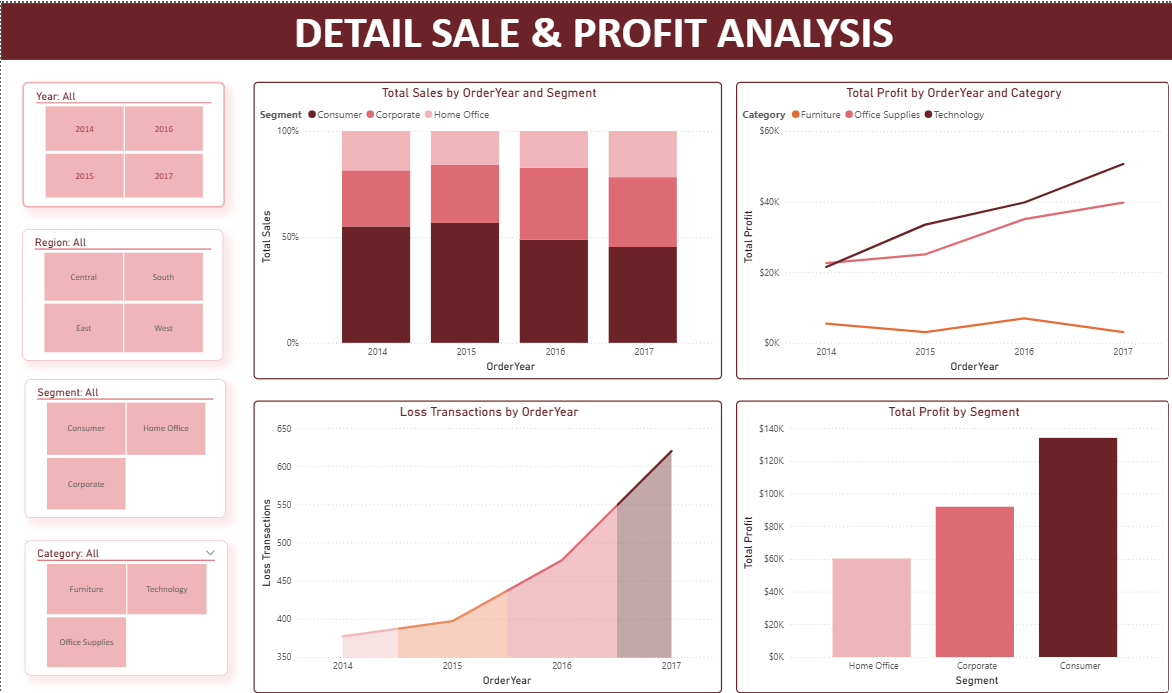

Layout of this report page (visuals, bound fields, positions):
{"tool":"powerbi","page":{"name":"Detailed Sales & Profit Analysis","canvas":[1580,920],"ordinal":1},"visuals":[{"type":"hundredPercentStackedColumnChart","fields":{"Category":["Dim_Date.OrderYear"],"Y":["Fact_Sales.Total Sales"],"Series":["Dim_Customer.Segment"]},"box":[336.7,105,625,396.7],"z":0},{"type":"lineChart","fields":{"Category":["Dim_Date.OrderYear"],"Y":["Fact_Sales.Total Profit"],"Series":["Dim_Product.Category"]},"box":[980,105,578.3,396.7],"z":1000},{"type":"actionButton","box":[0,0,100,40],"z":2000},{"type":"clusteredColumnChart","fields":{"Category":["Dim_Customer.Segment"],"Y":["Fact_Sales.Total Profit"]},"box":[980,530,578.3,390],"z":3000},{"type":"areaChart","fields":{"Category":["Dim_Date.OrderYear"],"Y":["Fact_Sales.Loss Transactions"]},"box":[336.7,530,625,390],"z":4000},{"type":"slicer","fields":{"Values":["Dim_Date.OrderYear"]},"box":[28,105.7,270,168.3],"z":5000},{"type":"slicer","fields":{"Values":["Dim_Geography.Region"]},"box":[28,302.3,268.3,175],"z":6000},{"type":"slicer","fields":{"Values":["Dim_Customer.Segment"]},"box":[31.3,502.3,268.3,185],"z":7000},{"type":"slicer","fields":{"Values":["Dim_Product.Category"]},"box":[31.3,717.3,270,180],"z":8000},{"type":"shape","box":[0,0,1580.6,76.1],"z":9000}]}

Visuals, with their boxes in screenshot pixels (x1, y1, x2, y2), scaled from the page's 1580x920 canvas onto the 1172x693 screenshot:
hundredPercentStackedColumnChart - Dim_Date.OrderYear x Fact_Sales.Total Sales: 250,79,713,378
lineChart - Dim_Date.OrderYear x Fact_Sales.Total Profit: 727,79,1156,378
actionButton: 0,0,74,30
clusteredColumnChart - Dim_Customer.Segment x Fact_Sales.Total Profit: 727,399,1156,692
areaChart - Dim_Date.OrderYear x Fact_Sales.Loss Transactions: 250,399,713,692
slicer - Dim_Date.OrderYear: 21,80,221,206
slicer - Dim_Geography.Region: 21,228,220,360
slicer - Dim_Customer.Segment: 23,378,222,518
slicer - Dim_Product.Category: 23,540,223,676
shape: 0,0,1171,57
